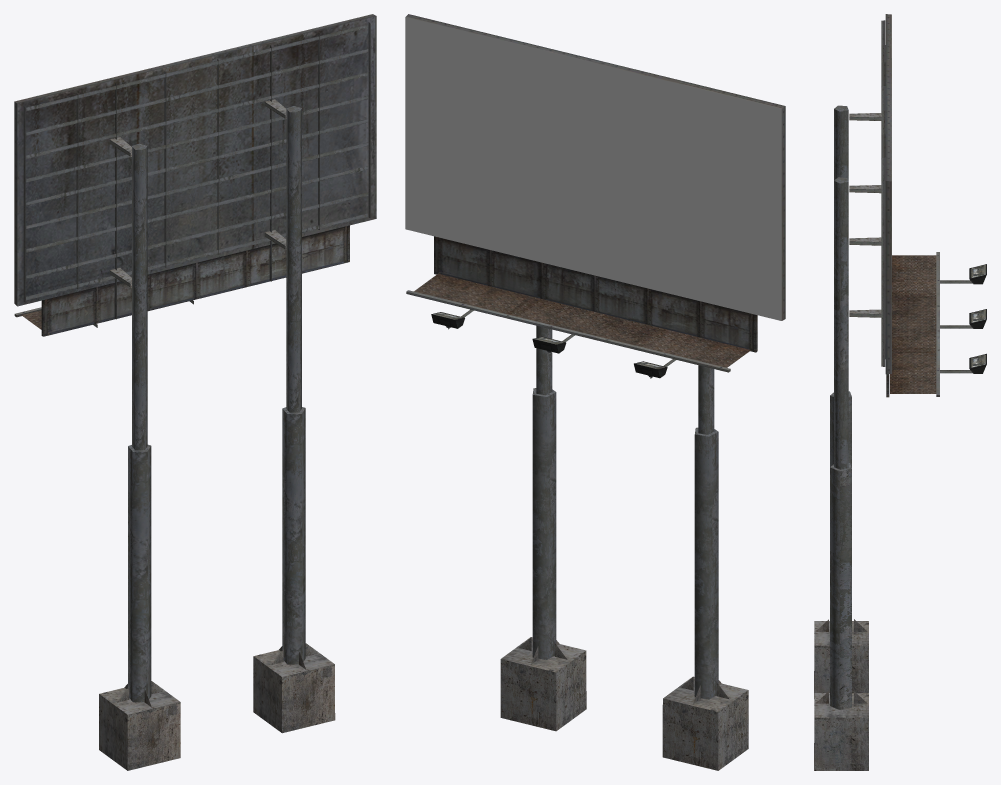
The model's file is bilboard1.FBX.
The picture shows the model from 3 angles, left to right: view 1: azimuth 30°, elevation 25°; view 2: azimuth 150°, elevation 25°; view 3: azimuth 270°, elevation 25°; orthographic projection. The views are drawn at different scales.
Visible parts, largest first — view 1: polySurface234; view 2: polySurface234; view 3: polySurface234.
Boxes of the visible parts, x1,y1,x2,y2 form: polySurface234: [14, 14, 376, 770]; polySurface234: [405, 14, 785, 770]; polySurface234: [814, 14, 986, 770].
Bounding box in the file's own units: 9.14 × 15.98 × 3.99.
